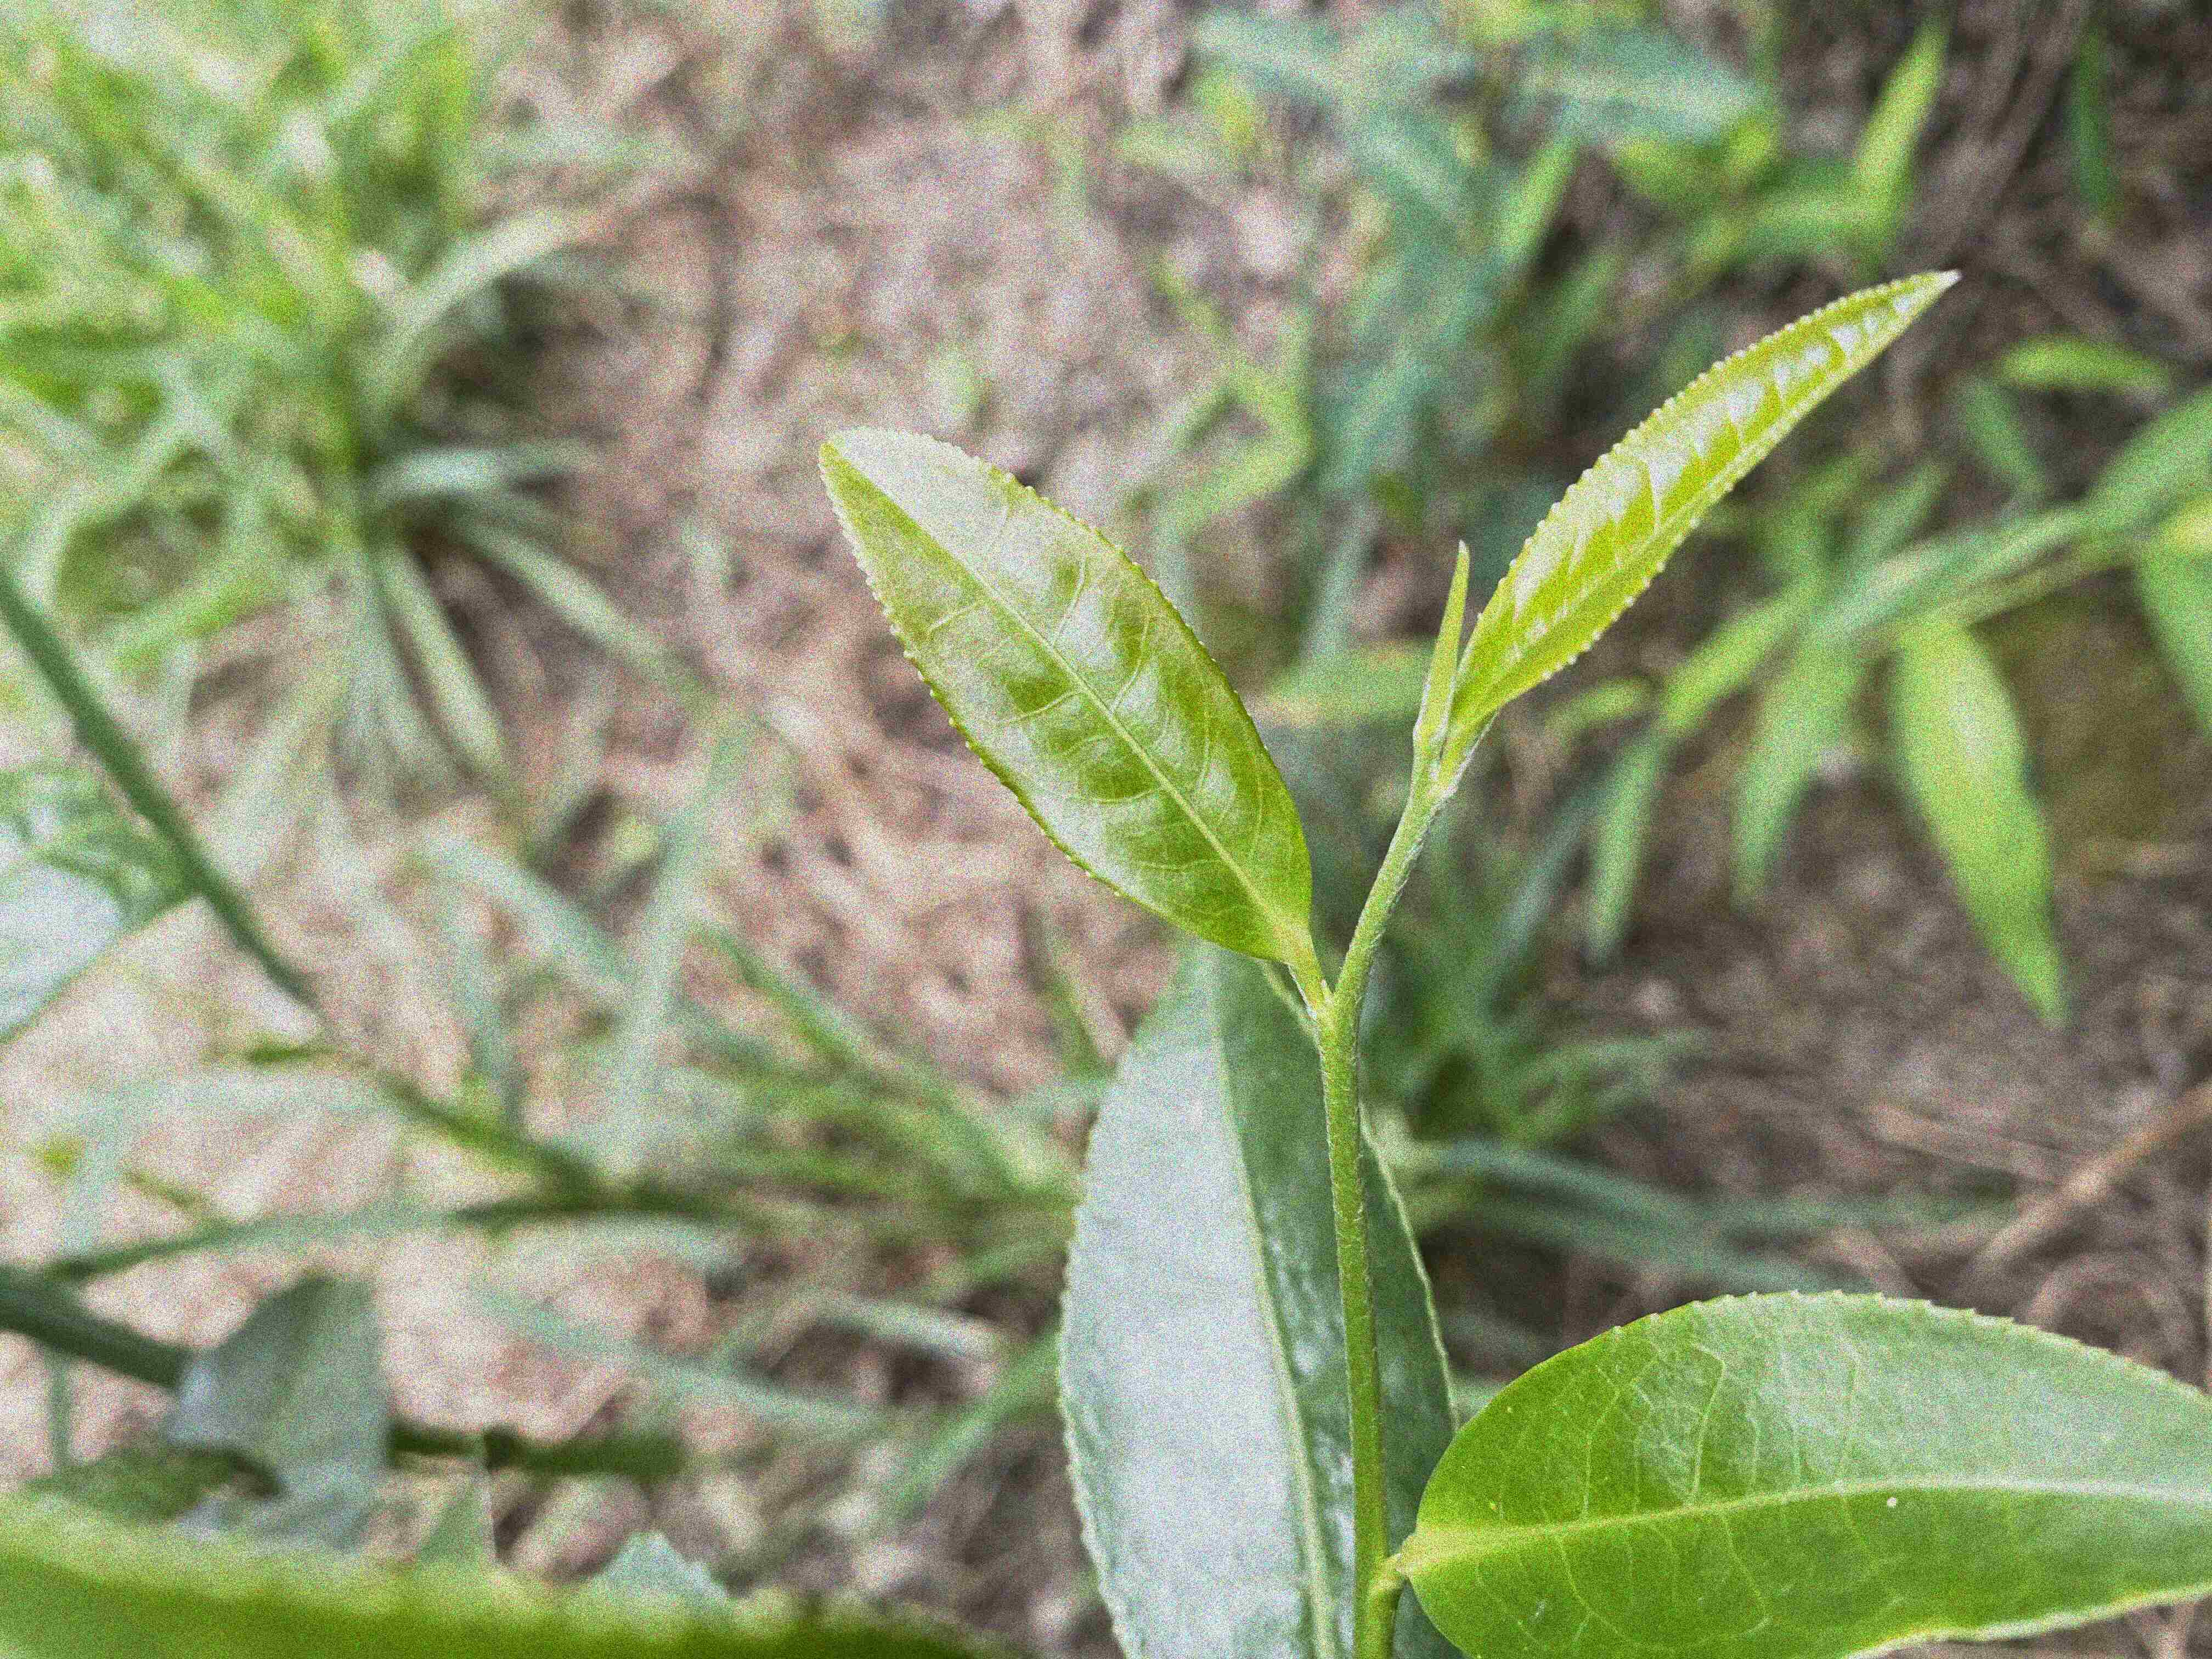healthy: (815, 427, 1317, 969), (1453, 272, 1958, 732)
